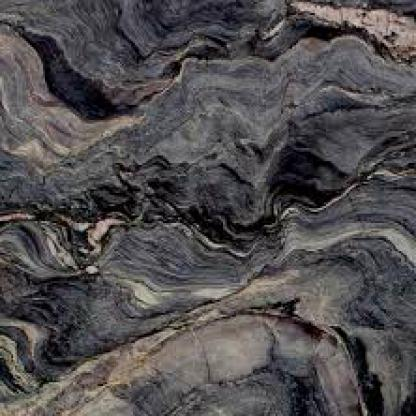Metamorphic_Quartize: (2, 0, 410, 414)
